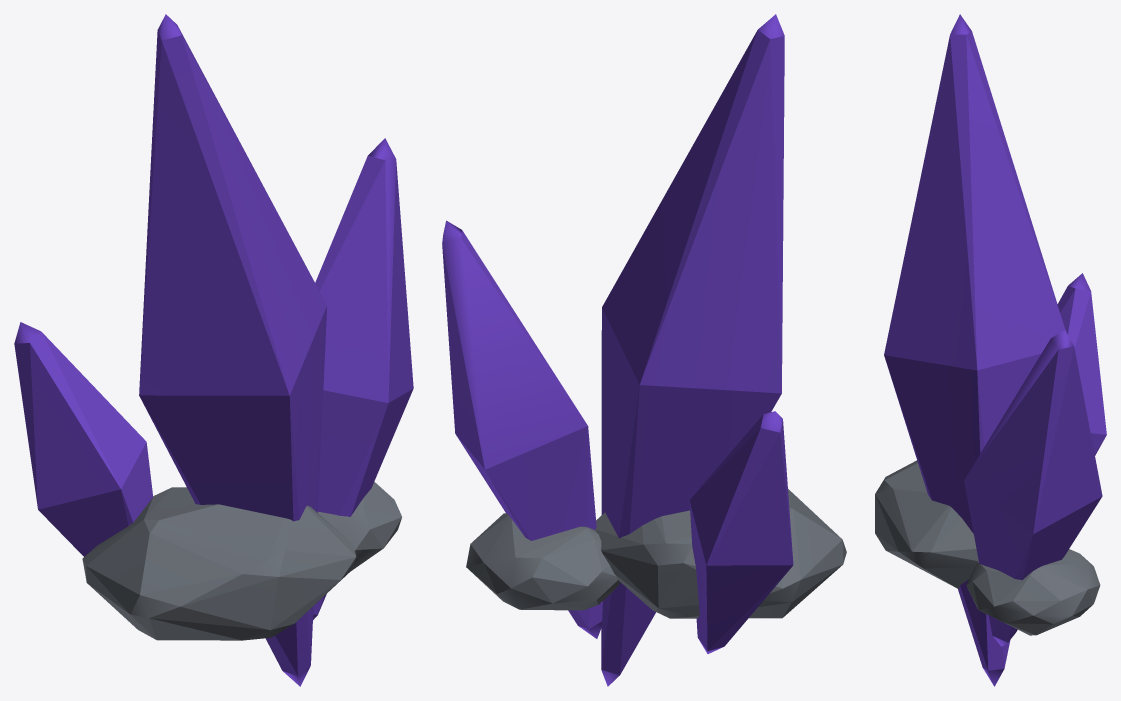
File: prop_crystalB_lod1.glb
3 renders of one model, left to right at view 1: azimuth 30°, elevation 25°; view 2: azimuth 150°, elevation 25°; view 3: azimuth 270°, elevation 25°, orthographic. The views are drawn at different scales.
Parts seen in each view (by area): view 1: prop_crystalB_lod1; view 2: prop_crystalB_lod1; view 3: prop_crystalB_lod1.
Boxes of the visible parts, x1,y1,x2,y2 form: prop_crystalB_lod1: [14, 14, 413, 686]; prop_crystalB_lod1: [442, 14, 846, 686]; prop_crystalB_lod1: [875, 14, 1106, 686].
Bounding box in the file's own units: 0.7673 × 1.44 × 0.4967.
